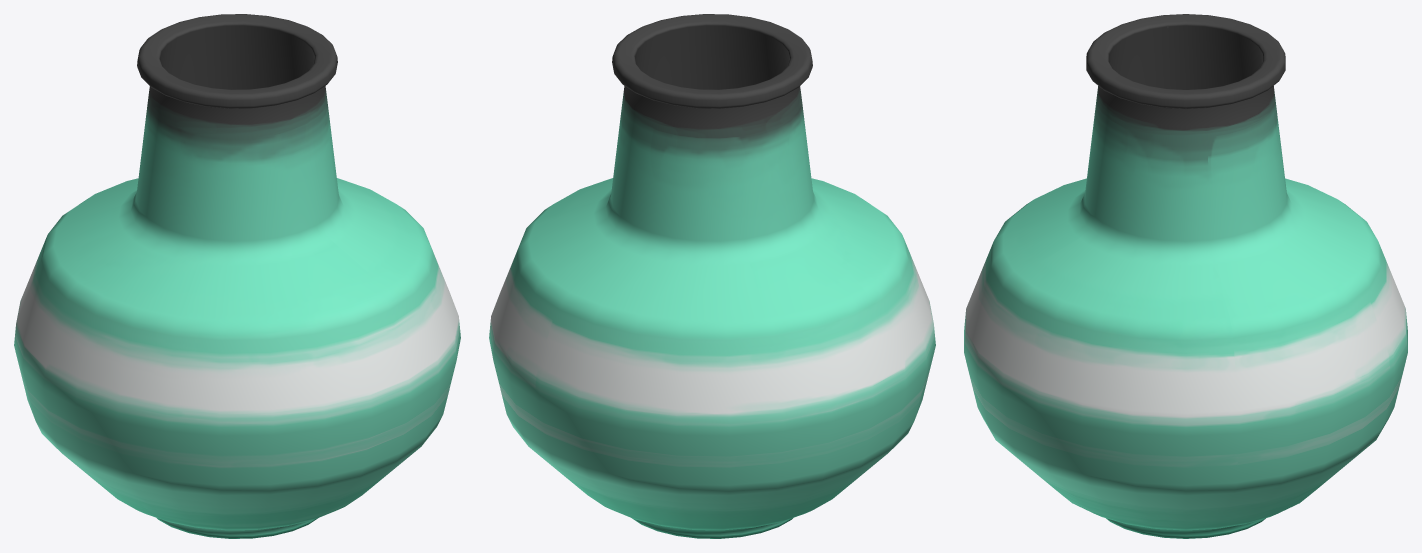
The model's file is Pot03.fbx.
The picture shows the model from 3 angles, left to right: view 1: azimuth 30°, elevation 25°; view 2: azimuth 150°, elevation 25°; view 3: azimuth 270°, elevation 25°; orthographic projection.
Parts seen in each view (by area): view 1: pCylinder3; view 2: pCylinder3; view 3: pCylinder3.
Boxes of the visible parts, x1=… form: pCylinder3: x1=14, y1=14, x2=460, y2=538; pCylinder3: x1=489, y1=14, x2=935, y2=538; pCylinder3: x1=964, y1=14, x2=1407, y2=538.
Bounding box in the file's own units: 0.5566 × 0.6144 × 0.5526.
